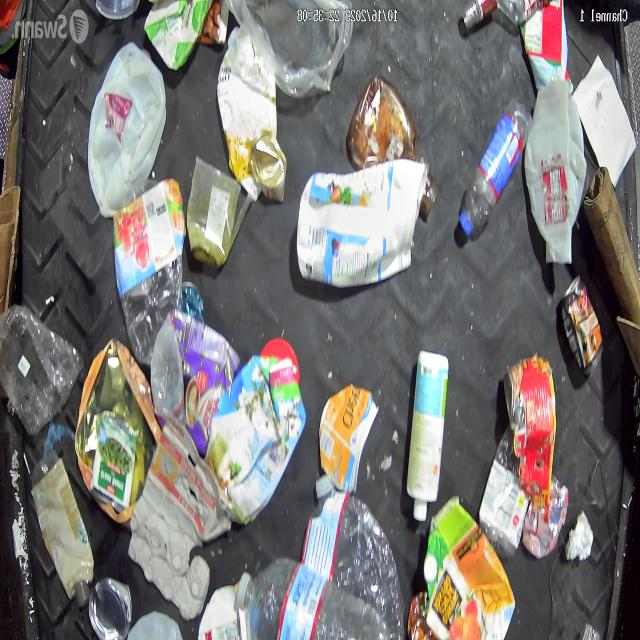can: (504, 358, 558, 448), (560, 273, 602, 374), (88, 574, 132, 640), (250, 128, 287, 204)
milk_jug: (86, 42, 166, 219), (524, 74, 585, 266)
non_white_jug: (203, 353, 307, 526), (296, 156, 429, 288), (422, 494, 515, 640)
plastic_bottle: (114, 178, 187, 366), (240, 556, 391, 640), (459, 102, 531, 235), (478, 428, 530, 554)
